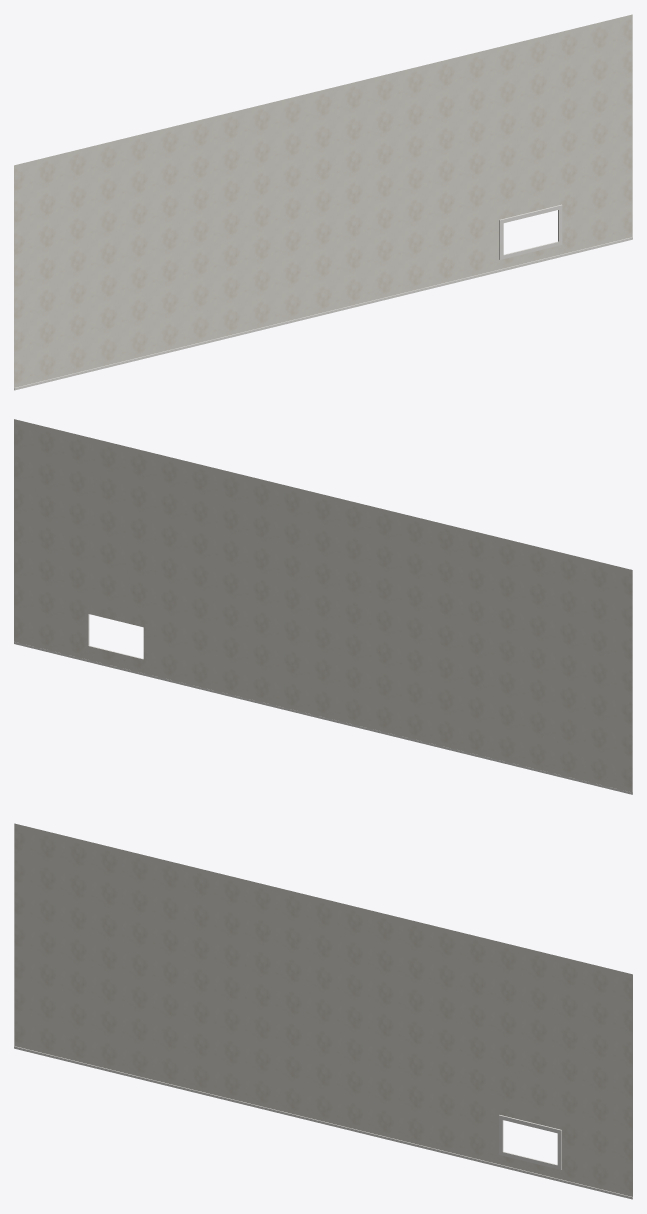
3 renders of one model, top to bottom at view 1: azimuth 30°, elevation 25°; view 2: azimuth 150°, elevation 25°; view 3: azimuth 330°, elevation 25°, orthographic.
Parts seen in each view (by area): view 1: jx_wm_40_c3a95c7d; view 2: jx_wm_40_c3a95c7d; view 3: jx_wm_40_c3a95c7d.
Part boxes in pixels (x1,y1,x2,y2): jx_wm_40_c3a95c7d: (14, 14, 632, 390); jx_wm_40_c3a95c7d: (14, 419, 632, 794); jx_wm_40_c3a95c7d: (14, 823, 632, 1199).
Size of the model in its own units: 40.3 by 14 by 0.086.
Materials: 2 (2 with a texture image).
